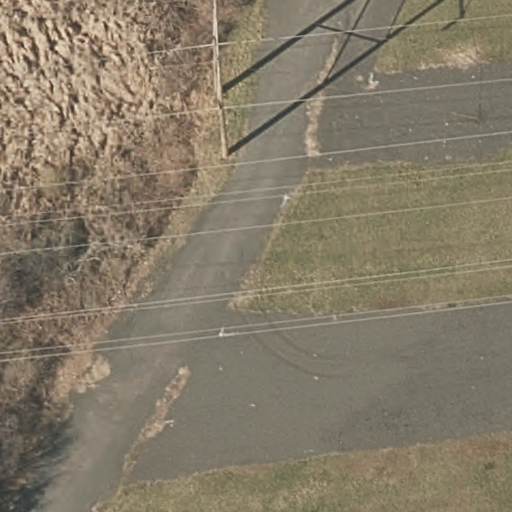DT: (208, 1, 229, 114)
